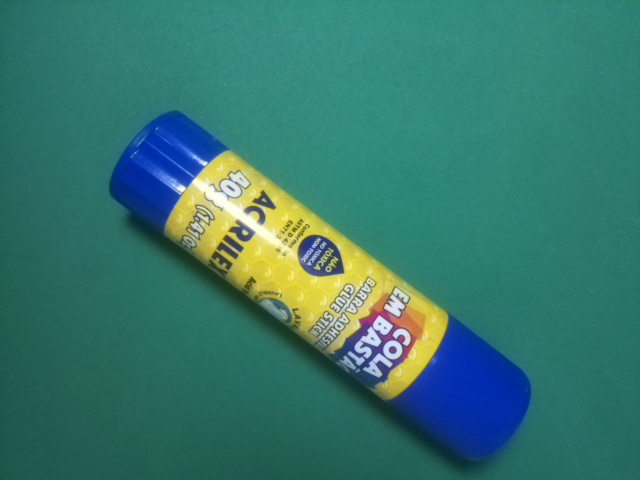Cola: (98, 101, 545, 475)
